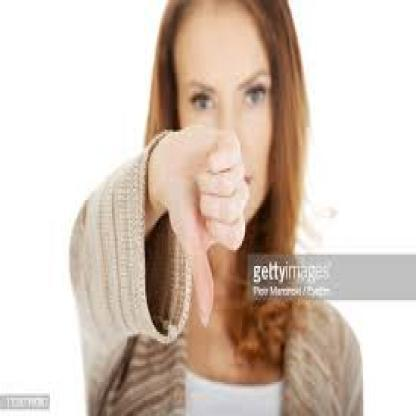thumb_down: (154, 118, 251, 332)
